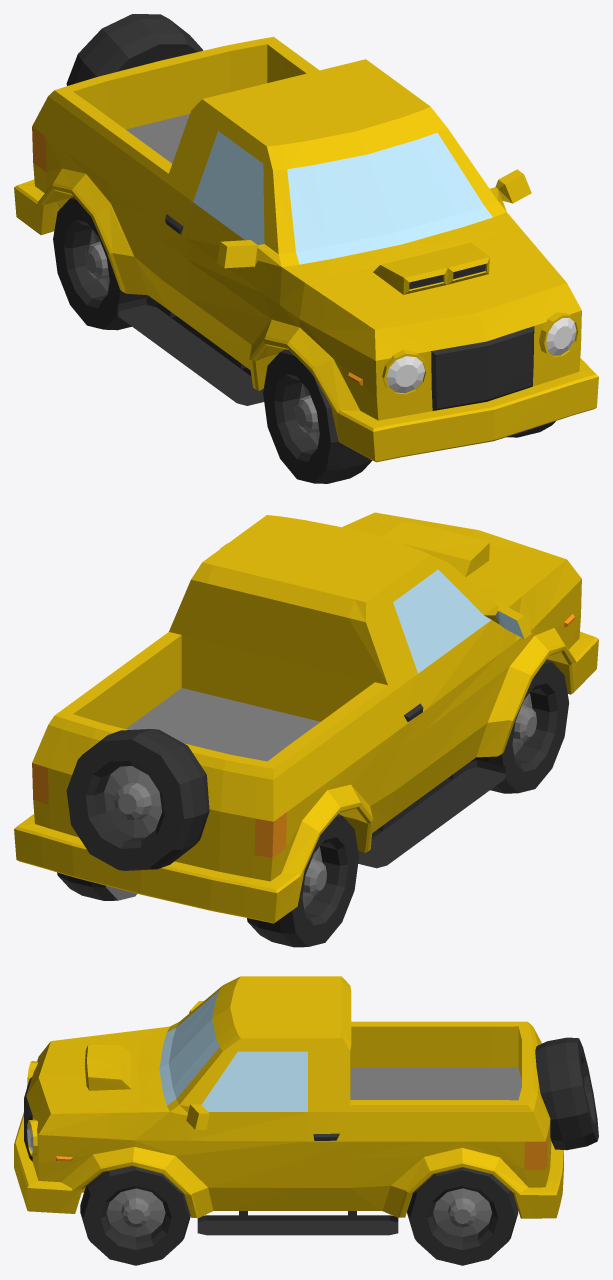
3 views of the same model, one above another, from view 1: azimuth 30°, elevation 25°; view 2: azimuth 150°, elevation 25°; view 3: azimuth 270°, elevation 25° (orthographic). The views are drawn at different scales.
Parts seen in each view (by area): view 1: Jeep; view 2: Jeep; view 3: Jeep.
Boxes of the visible parts, <box> form: Jeep: <box>14,14,598,483</box>; Jeep: <box>14,512,598,947</box>; Jeep: <box>14,976,598,1265</box>.
Bounding box in the file's own units: 45.5 × 39.29 × 96.46.
Materials: 1 (1 with a texture image).
